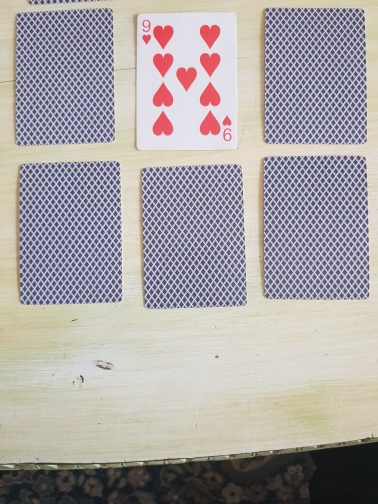nine: (134, 11, 239, 152)
